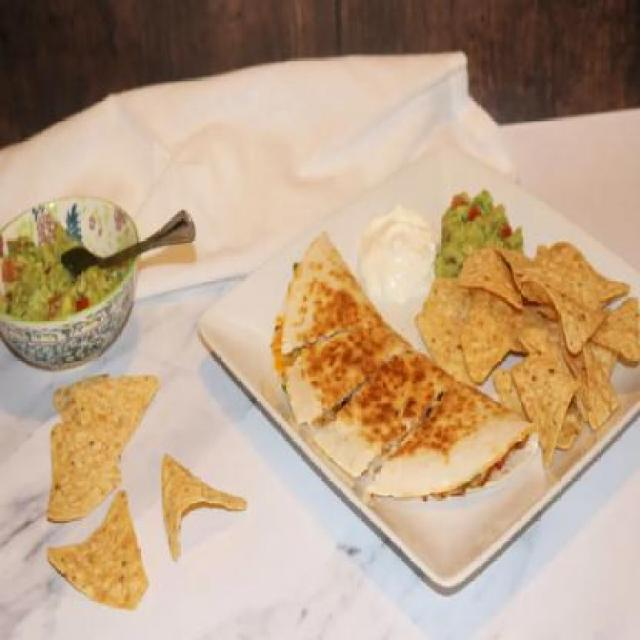chicken quesadilla: (268, 226, 538, 500)
guacamole: (438, 183, 525, 283)
nachos: (37, 373, 255, 621), (412, 237, 638, 474)
